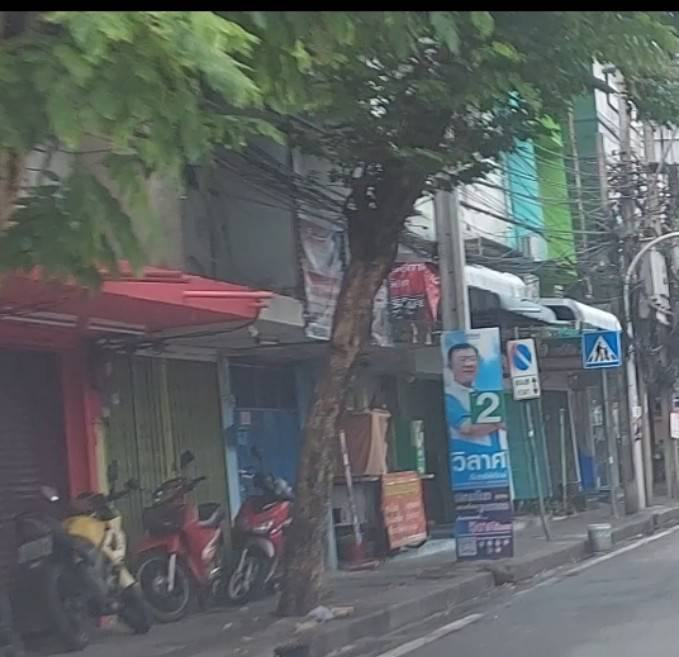Banner: (436, 328, 518, 555)
